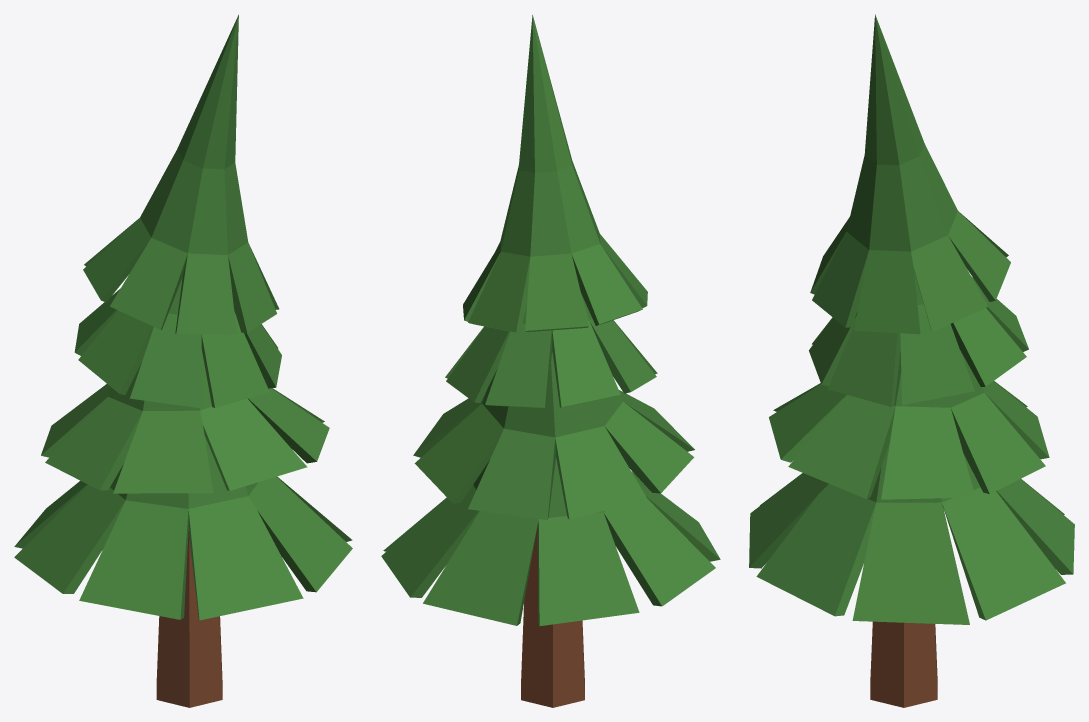
Rendered from Pine.fbx.
3 renders of one model, left to right at view 1: azimuth 30°, elevation 25°; view 2: azimuth 150°, elevation 25°; view 3: azimuth 270°, elevation 25°, orthographic. The views are drawn at different scales.
Visible parts, largest first — view 1: PineMesh; view 2: PineMesh; view 3: PineMesh.
Boxes of the visible parts, bbox=[...] form: PineMesh: bbox=[14, 14, 352, 707]; PineMesh: bbox=[381, 15, 720, 707]; PineMesh: bbox=[749, 14, 1074, 707].
Size of the model in its own units: 38.91 by 87.12 by 37.02.
